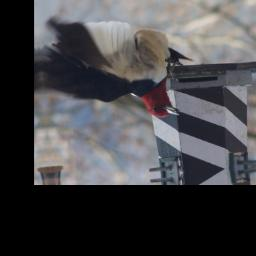Woodpecker: (37, 9, 195, 134)
